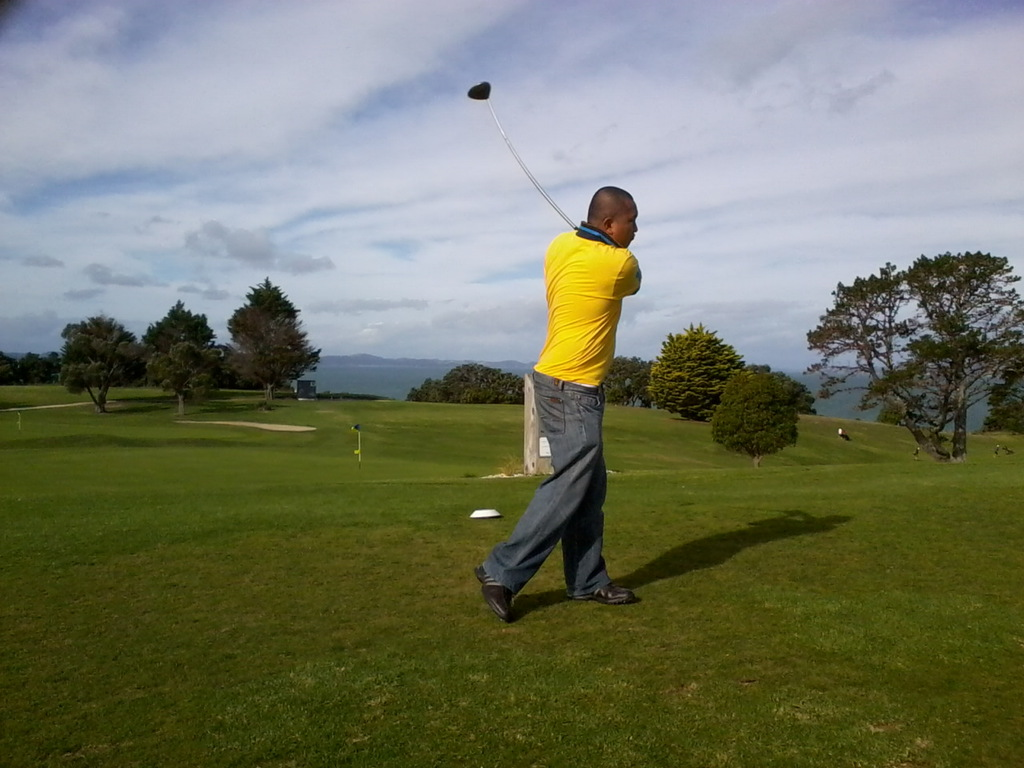Person: (473, 185, 641, 623)
